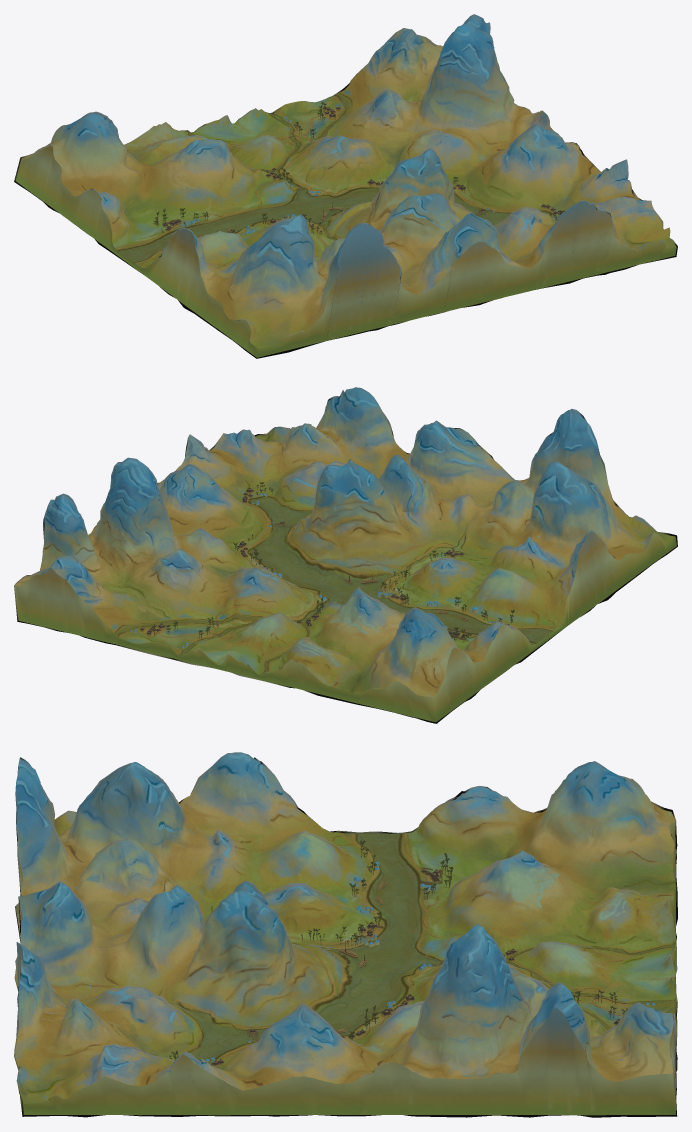
File: the_vast_land_no_background.glb
3 renders of one model, top to bottom at view 1: azimuth 30°, elevation 25°; view 2: azimuth 150°, elevation 25°; view 3: azimuth 270°, elevation 25°, orthographic. The views are drawn at different scales.
Parts seen in each view (by area): view 1: MainMesh, MainMeshBounds, MainMeshOtuline, SmallObjects; view 2: MainMesh, MainMeshBounds, MainMeshOtuline, SmallObjects; view 3: MainMesh, MainMeshBounds, MainMeshOtuline, SmallObjects.
Part boxes in pixels (x1,y1,x2,y2): MainMesh: (22,15,676,348); MainMeshBounds: (15,145,676,357); MainMeshOtuline: (14,14,677,358); SmallObjects: (153,102,564,243); MainMesh: (15,388,674,697); MainMeshBounds: (14,531,676,722); MainMeshOtuline: (14,387,677,723); SmallObjects: (130,482,514,648); MainMesh: (15,753,675,1103); MainMeshBounds: (15,795,676,1115); MainMeshOtuline: (14,752,677,1117); SmallObjects: (169,840,655,1066).
Bounding box in the file's own units: 3.65 × 0.9705 × 3.58.
4 materials, 3 textured.
